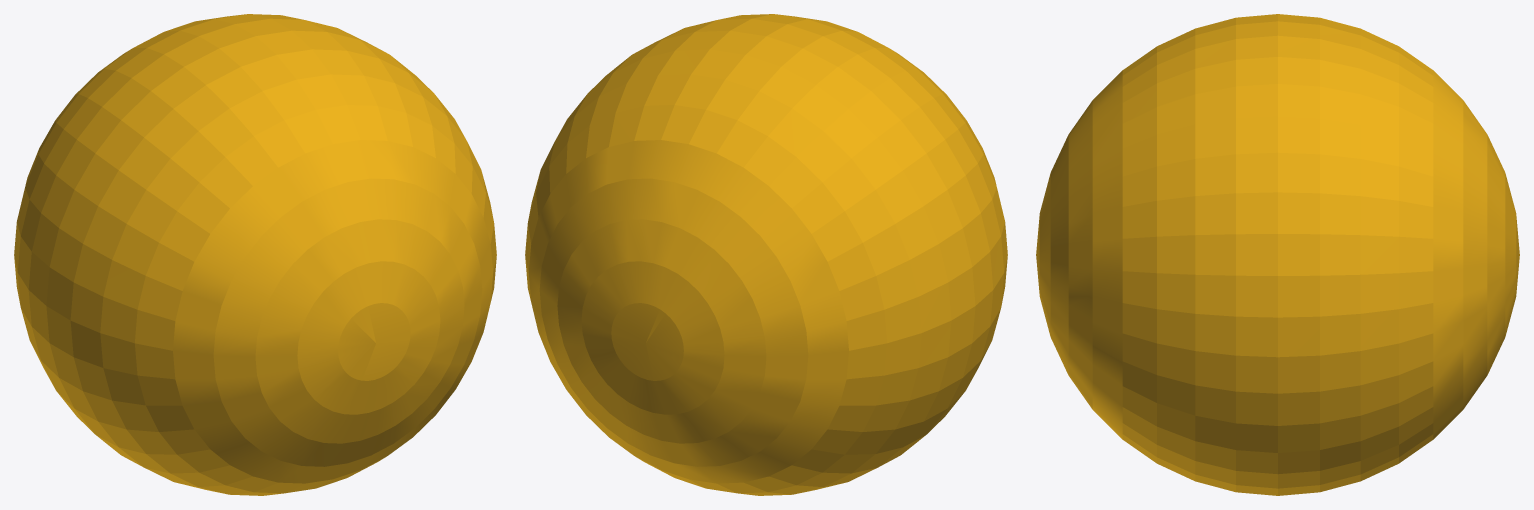
File: venere.gltf
3 views of the same model, side by side, from view 1: azimuth 30°, elevation 25°; view 2: azimuth 150°, elevation 25°; view 3: azimuth 270°, elevation 25° (orthographic).
Visible parts, largest first — view 1: venere; view 2: venere; view 3: venere.
Part boxes in pixels (<box>): venere: <box>14,14,496,495</box>; venere: <box>525,14,1007,495</box>; venere: <box>1036,14,1519,495</box>.
Bounding box in the file's own units: 0.16 × 0.16 × 0.16.
